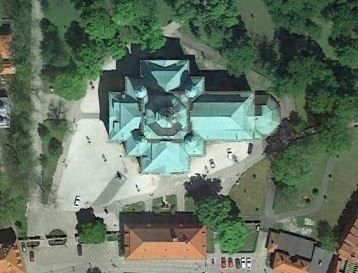block of flats: (122, 220, 211, 262), (271, 249, 313, 273)
church: (102, 50, 285, 179)
